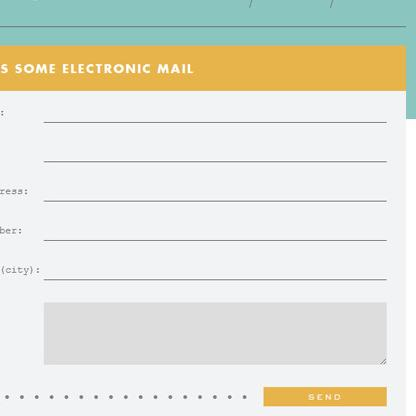button: (262, 385, 387, 407)
field: (42, 301, 388, 366)
